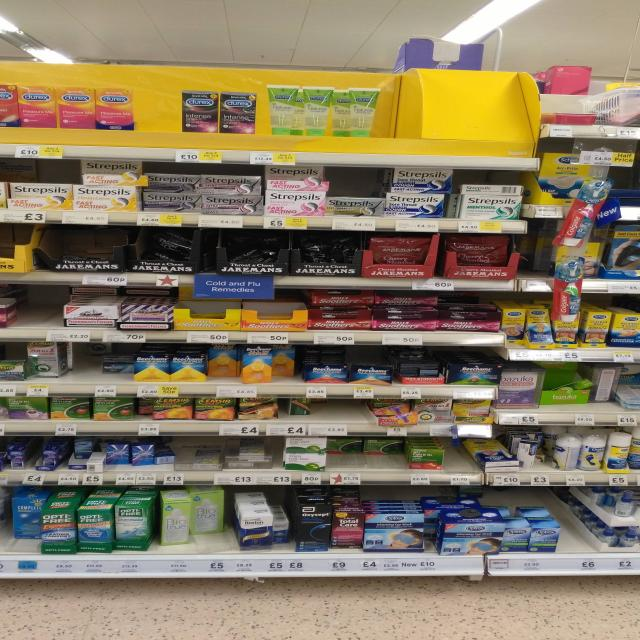void: (2, 283, 60, 325), (387, 82, 419, 138), (141, 87, 178, 131), (568, 512, 597, 554), (524, 234, 549, 276), (314, 401, 370, 418)
